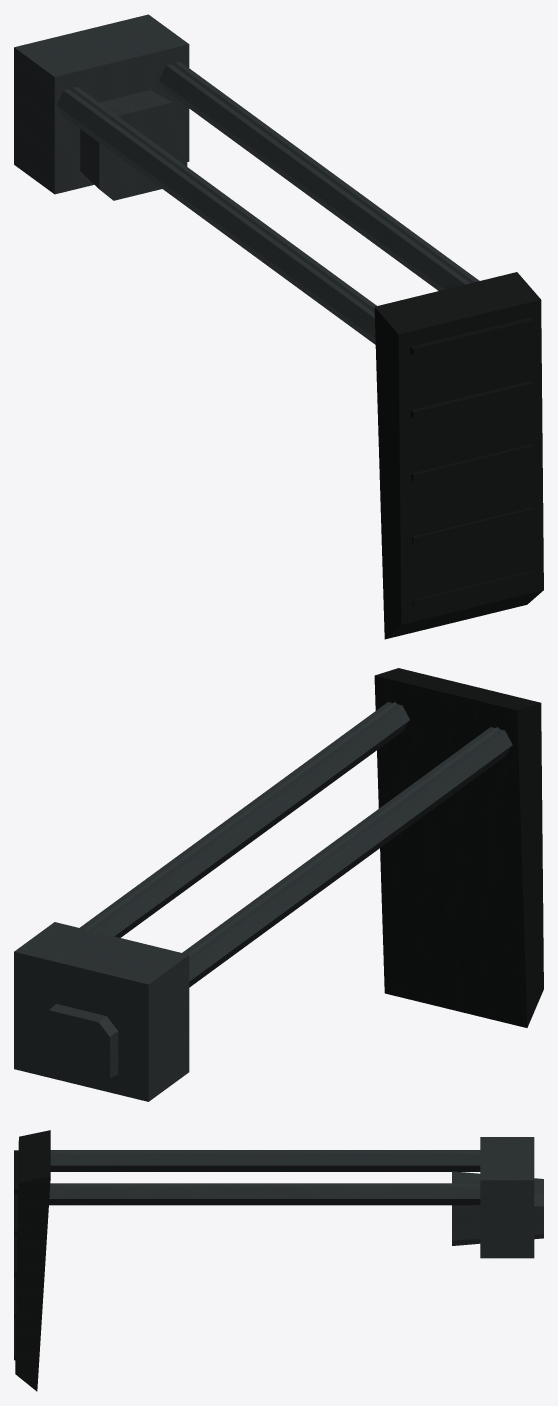
Rendered from mp5_retract.glb.
3 renders of one model, top to bottom at view 1: azimuth 30°, elevation 25°; view 2: azimuth 150°, elevation 25°; view 3: azimuth 270°, elevation 25°, orthographic. The views are drawn at different scales.
Visible parts, largest first — view 1: stock__mp5_retract_LOD0_RAID_Secondary_Original_rubber, stock__mp5_retract_LOD0_RAID_Secondary_Original_steel, stock__mp5_retract_LOD1_RAID_Secondary_Original_rubber, stock__mp5_retract_LOD1_RAID_Secondary_Original_steel; view 2: stock__mp5_retract_LOD0_RAID_Secondary_Original_steel, stock__mp5_retract_LOD0_RAID_Secondary_Original_rubber, stock__mp5_retract_LOD1_RAID_Secondary_Original_rubber, stock__mp5_retract_LOD1_RAID_Secondary_Original_steel; view 3: stock__mp5_retract_LOD0_RAID_Secondary_Original_steel, stock__mp5_retract_LOD0_RAID_Secondary_Original_rubber, stock__mp5_retract_LOD1_RAID_Secondary_Original_rubber, stock__mp5_retract_LOD1_RAID_Secondary_Original_steel.
Boxes of the visible parts, x1,y1,x2,y2 form: stock__mp5_retract_LOD0_RAID_Secondary_Original_rubber: (375, 274, 541, 637); stock__mp5_retract_LOD0_RAID_Secondary_Original_steel: (14, 14, 479, 344); stock__mp5_retract_LOD1_RAID_Secondary_Original_rubber: (374, 272, 543, 639); stock__mp5_retract_LOD1_RAID_Secondary_Original_steel: (69, 61, 474, 312); stock__mp5_retract_LOD0_RAID_Secondary_Original_steel: (14, 702, 512, 1101); stock__mp5_retract_LOD0_RAID_Secondary_Original_rubber: (377, 669, 542, 1024); stock__mp5_retract_LOD1_RAID_Secondary_Original_rubber: (374, 668, 543, 1027); stock__mp5_retract_LOD1_RAID_Secondary_Original_steel: (85, 702, 499, 955); stock__mp5_retract_LOD0_RAID_Secondary_Original_steel: (49, 1137, 543, 1258); stock__mp5_retract_LOD0_RAID_Secondary_Original_rubber: (14, 1134, 50, 1388); stock__mp5_retract_LOD1_RAID_Secondary_Original_rubber: (15, 1130, 50, 1391); stock__mp5_retract_LOD1_RAID_Secondary_Original_steel: (50, 1151, 480, 1185).
Bounding box in the file's own units: 0.089 × 0.194 × 0.432.
Materials: 2 (2 with a texture image).
